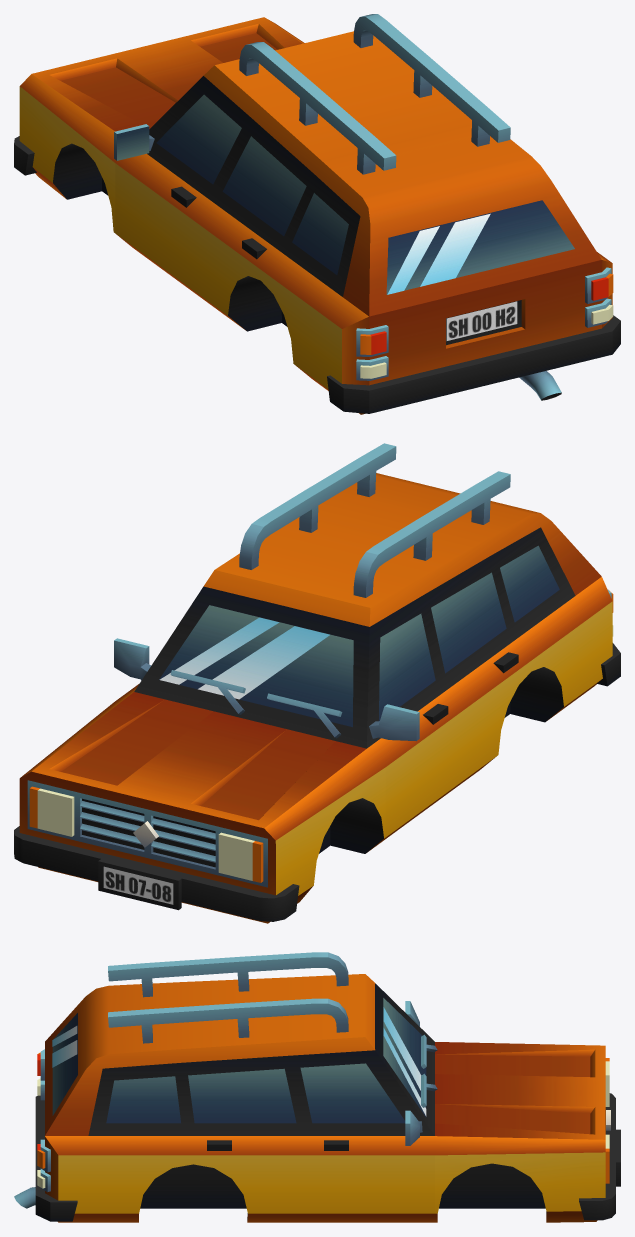
The model's file is car7.glb.
3 renders of one model, top to bottom at view 1: azimuth 30°, elevation 25°; view 2: azimuth 150°, elevation 25°; view 3: azimuth 270°, elevation 25°, orthographic. The views are drawn at different scales.
Visible parts, largest first — view 1: model_12; view 2: model_12; view 3: model_12.
Part boxes in pixels (box(x1,y1,x2,y2)): model_12: box(14, 14, 620, 414); model_12: box(14, 443, 620, 923); model_12: box(14, 952, 620, 1222).
Size of the model in its own units: 147 by 117 by 309.
Materials: 1 (1 with a texture image).
